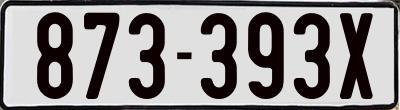3: (294, 12, 335, 104), (200, 12, 242, 99), (128, 10, 165, 96)
7: (83, 13, 121, 102)
8: (35, 9, 74, 96)
9: (247, 11, 284, 100)
X: (340, 11, 373, 102)
